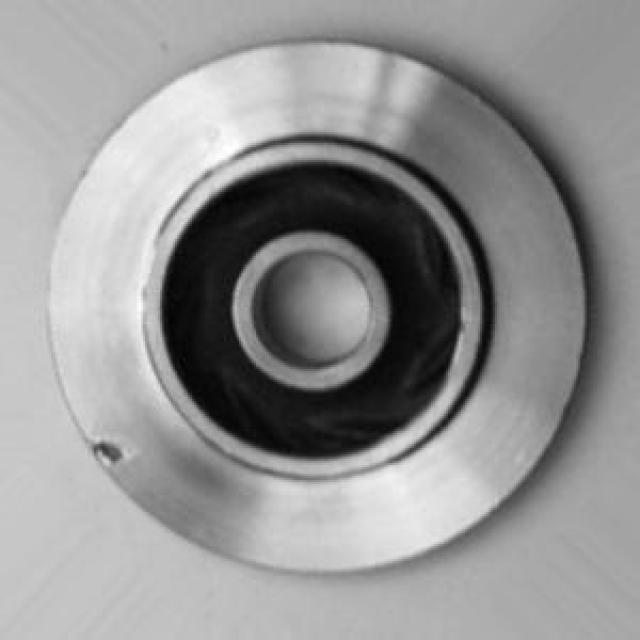Defect: (83, 436, 142, 471)
